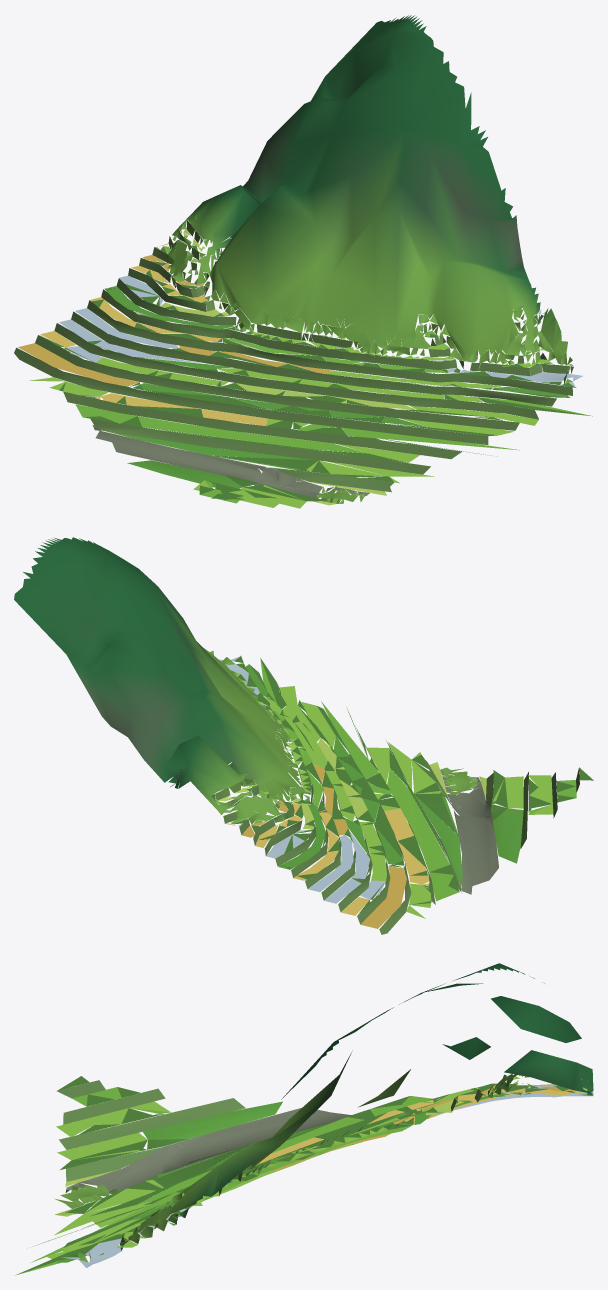
File: payo_land_xm1_y3_lod2.glb
The picture shows the model from 3 angles, top to bottom: view 1: azimuth 30°, elevation 25°; view 2: azimuth 150°, elevation 25°; view 3: azimuth 270°, elevation 25°; orthographic projection. The views are drawn at different scales.
Visible parts, largest first — view 1: payo_land_xm1_y3; view 2: payo_land_xm1_y3; view 3: payo_land_xm1_y3.
Boxes of the visible parts, x1,y1,x2,y2 form: payo_land_xm1_y3: (14,15,592,508); payo_land_xm1_y3: (14,537,593,934); payo_land_xm1_y3: (15,963,593,1275).
Bounding box in the file's own units: 271 × 204 × 281.
